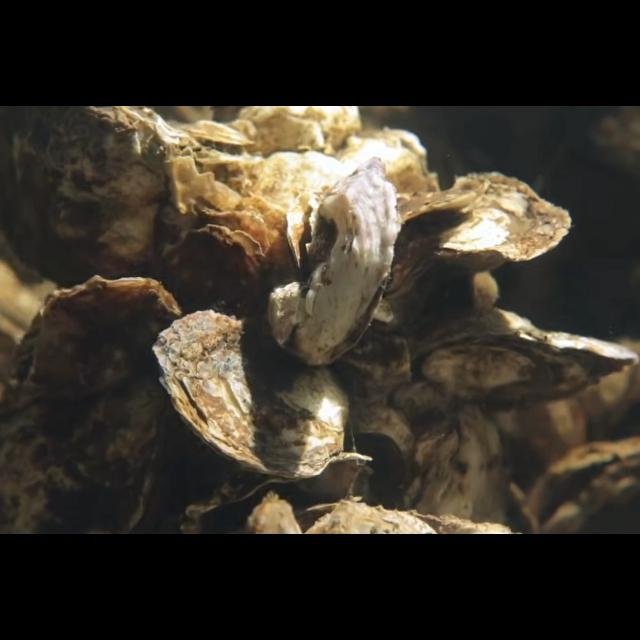Oyster-Closed: (0, 274, 184, 534), (0, 106, 220, 288), (151, 310, 353, 480), (264, 156, 400, 368), (382, 172, 574, 298), (394, 403, 512, 535), (156, 224, 268, 326)
Oyster-Open: (410, 308, 640, 414), (196, 453, 374, 535), (525, 437, 640, 535), (177, 119, 255, 169)
